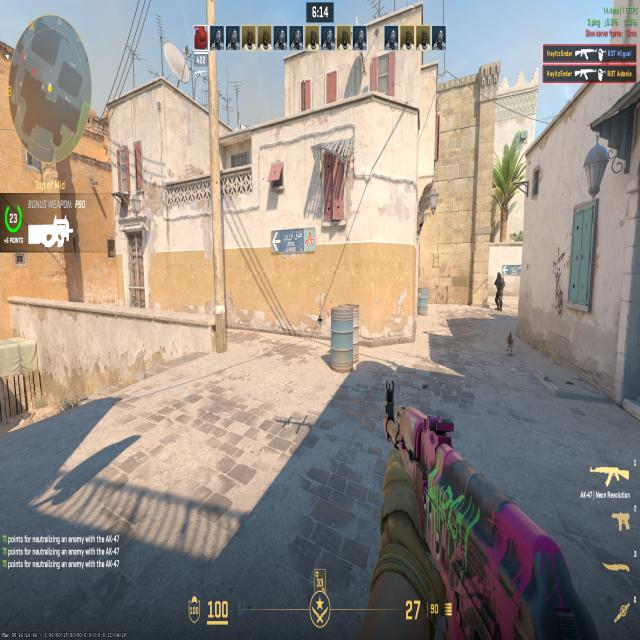ct: (492, 269, 506, 313)
